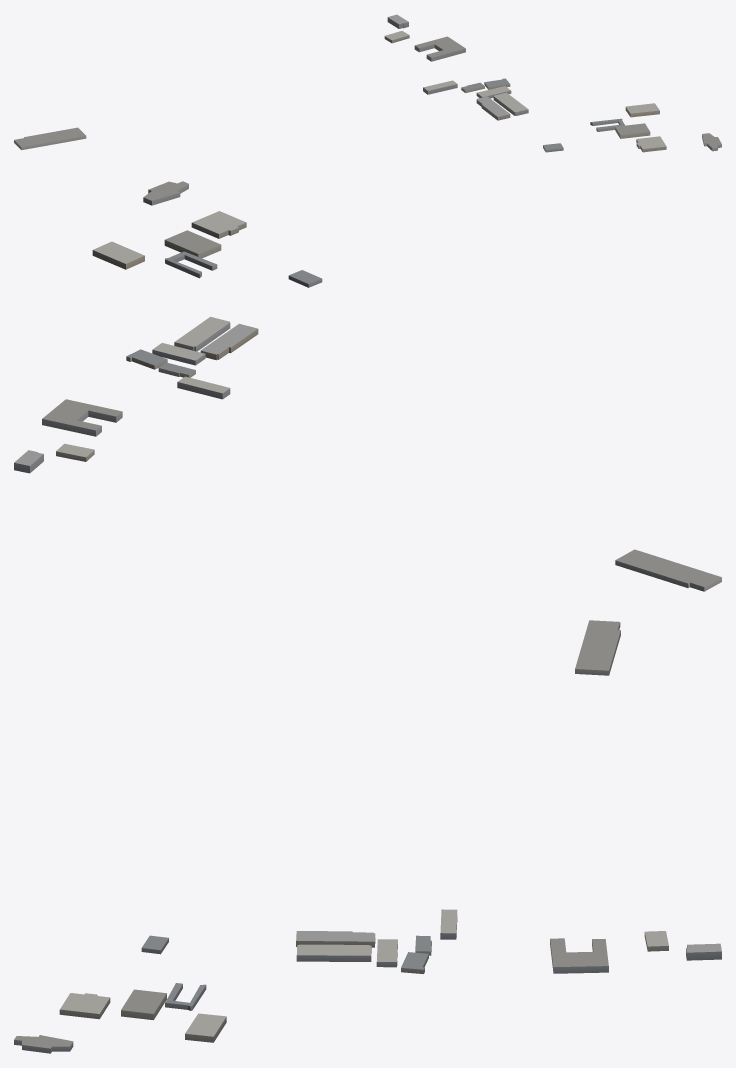
Rendered from bld_17_9.fbx.
3 renders of one model, top to bottom at view 1: azimuth 30°, elevation 25°; view 2: azimuth 150°, elevation 25°; view 3: azimuth 270°, elevation 25°, orthographic. The views are drawn at different scales.
Parts seen in each view (by area): view 1: bld_17_9_LOD0; view 2: bld_17_9_LOD0; view 3: bld_17_9_LOD0.
Boxes of the visible parts, <box> form: bld_17_9_LOD0: <box>14,14,721,152</box>; bld_17_9_LOD0: <box>14,181,721,591</box>; bld_17_9_LOD0: <box>14,620,721,1053</box>.
Bounding box in the file's own units: 1885 × 16.28 × 1316.
